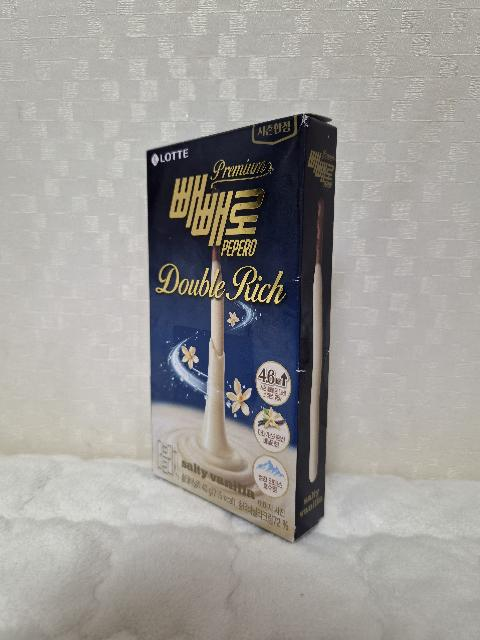pepero: (146, 113, 337, 543)
